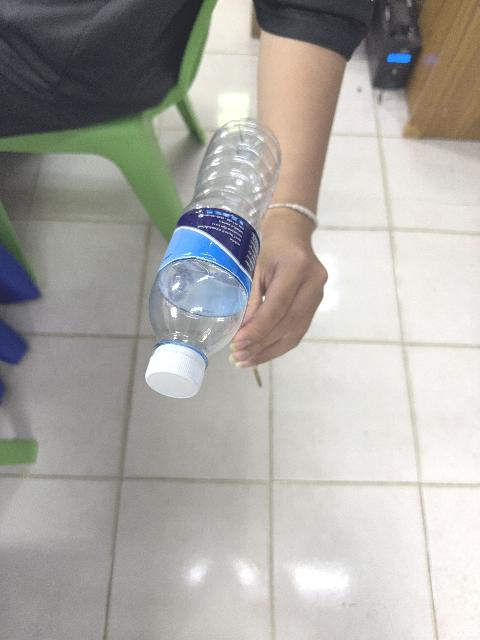bottle: (145, 119, 279, 397)
